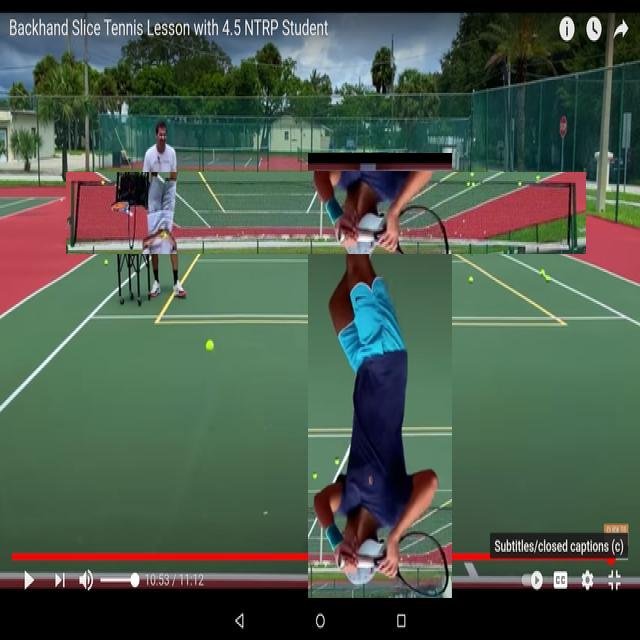net: (66, 172, 586, 254)
player: (308, 153, 452, 600)
